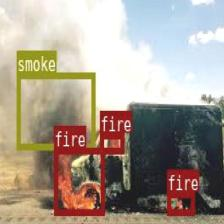fire: (54, 148, 104, 214), (167, 191, 194, 214), (99, 131, 124, 152)
smoke: (16, 72, 95, 148)
